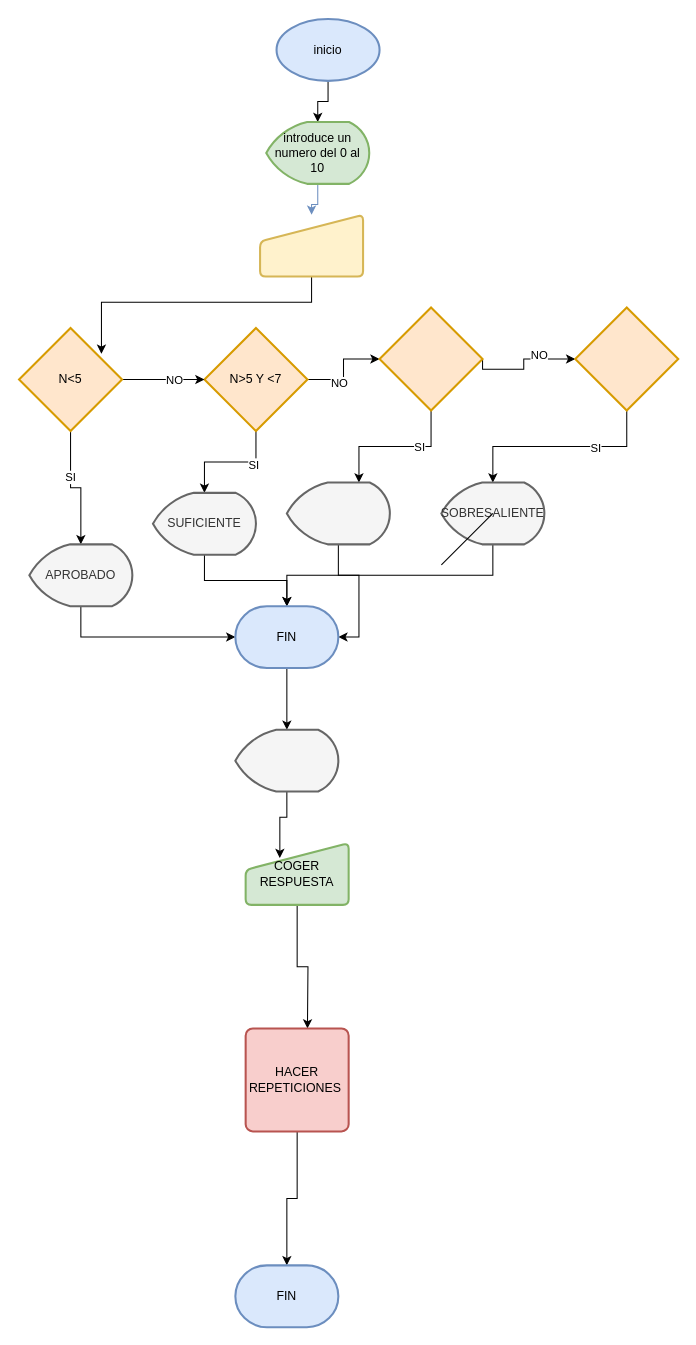
This 696x1345 diagram has some shape labels left out. Each missing label, with the centre of its shape:
"CUANTAS VECES QUIERES QUE SE REPITA" belongs at pixel 286 760.
"leer el numero" belongs at pixel 311 245.
"N>7 Y <9" belongs at pixel 430 358.
"N>9" belongs at pixel 626 358.
"NOTABLE" belongs at pixel 337 513.
